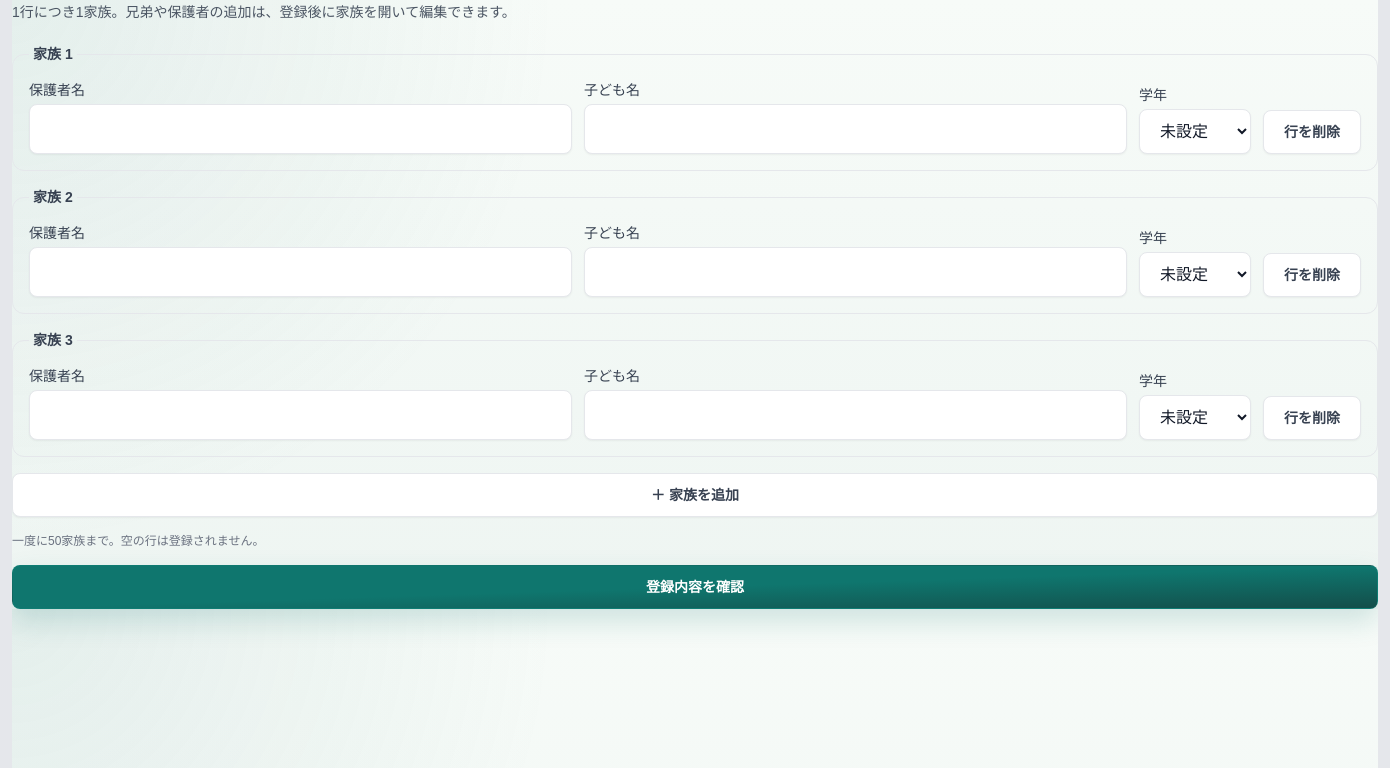
it: 部分入力（田中 母 /  / ）を空行として捨てずエラーにする
In the 1st field labelled "保護者名": (300, 129) [29, 104, 572, 154], type "田中 母"
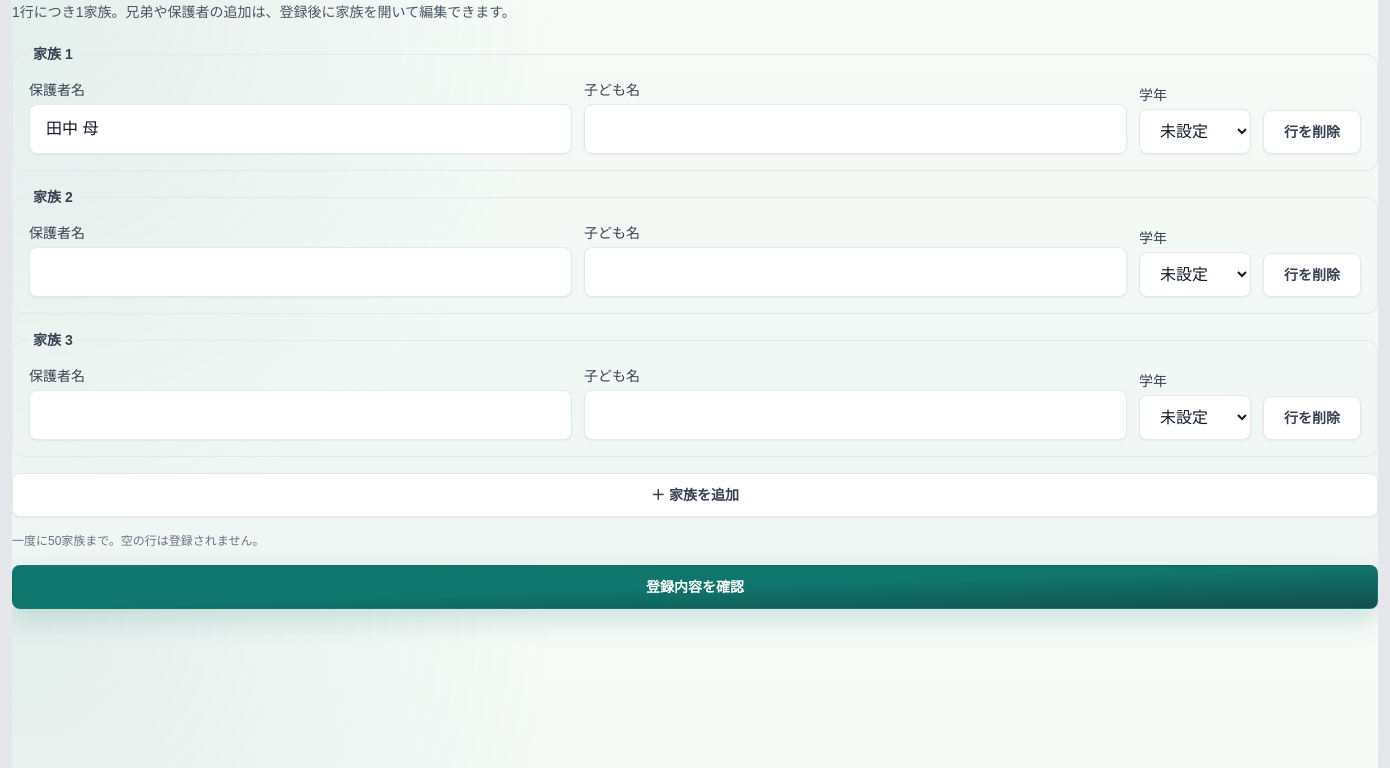
Select "未設定" in the 1st dropdown labelled "学年": (1195, 132) [1139, 109, 1251, 154]
Click the button "登録内容を確認": (695, 587) [12, 565, 1378, 609]
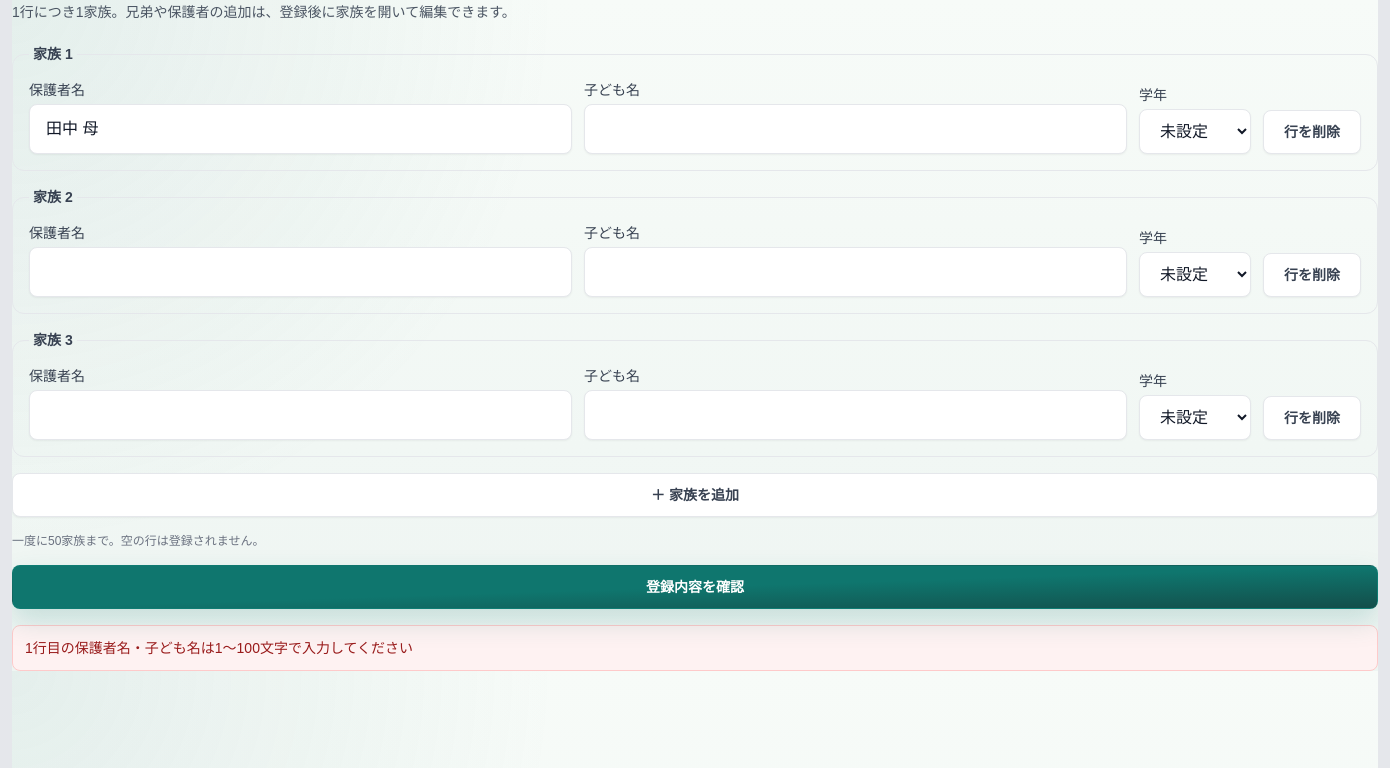
Check: the message shows "保護者名・子ども名", box [25, 640, 413, 656]
